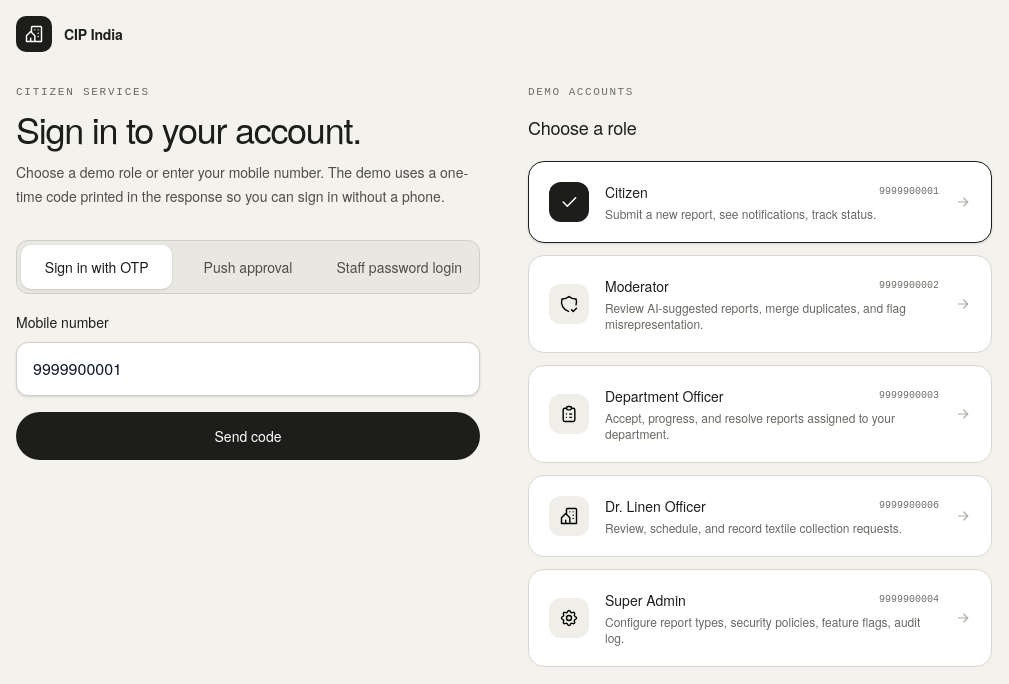
Scenario: LoginPage › shows the server error when staff password login fails
Click the button "Staff password login": point(399, 267) [324,245,475,289]
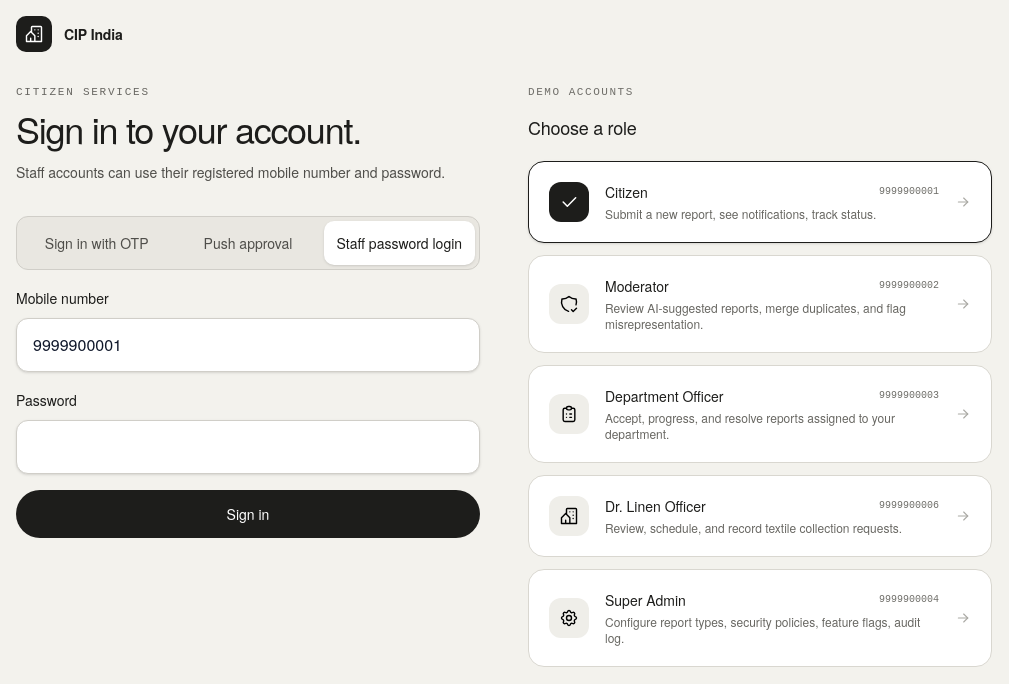
In the password field labelled "Password": point(248, 447) [16,420,480,474], type "wrong"
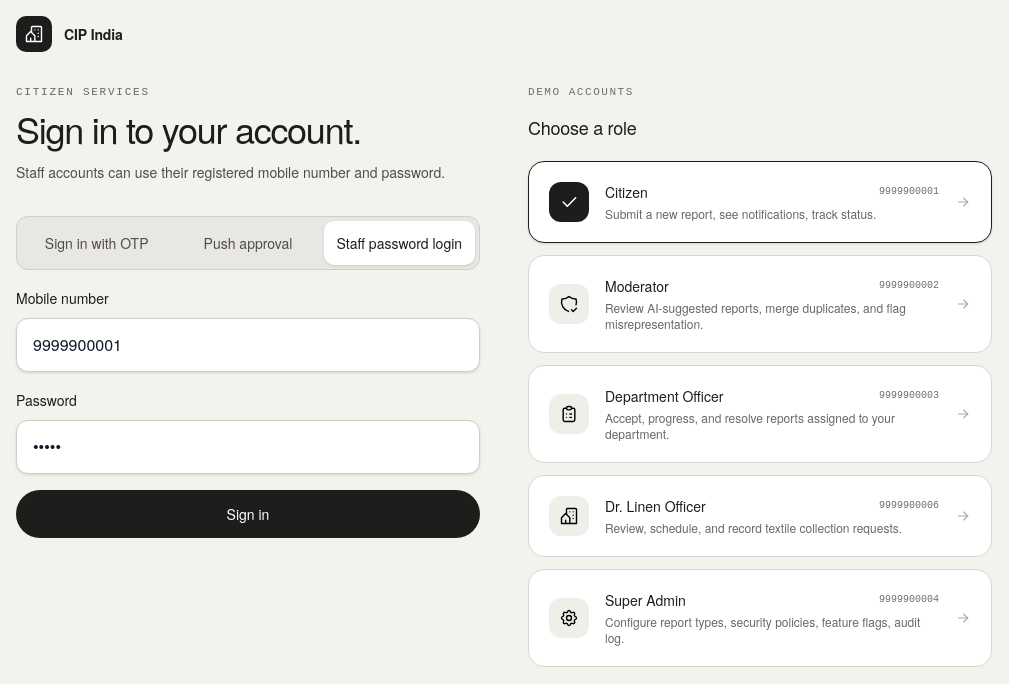
Click the button "Sign in": point(248, 514) [16,490,480,538]
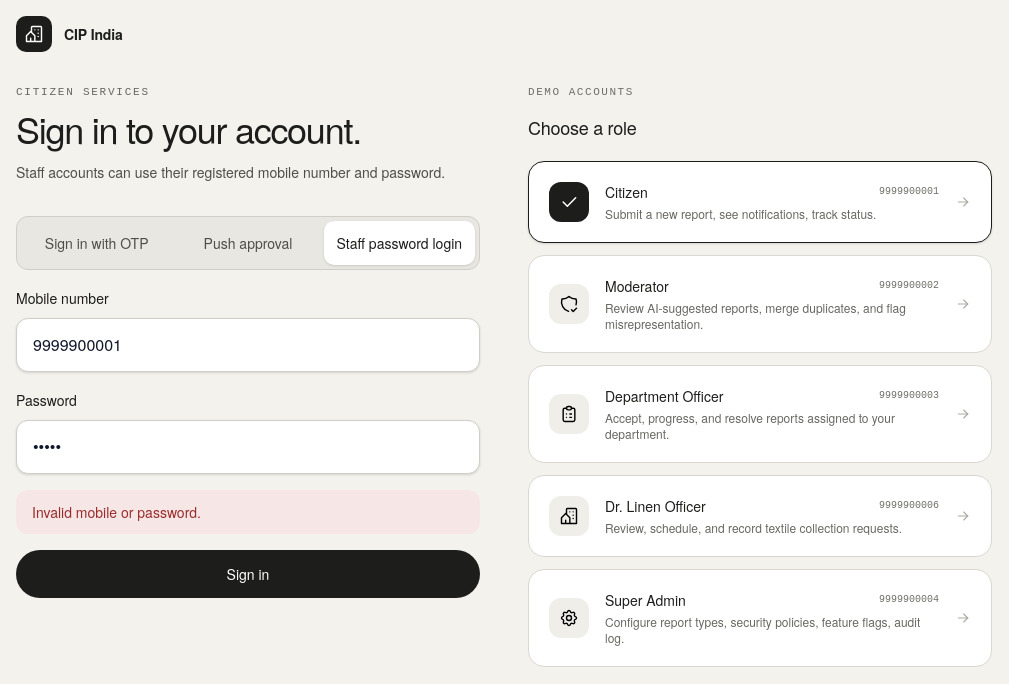
Now the text "Invalid mobile or password." is shown, box [16,490,480,534]
